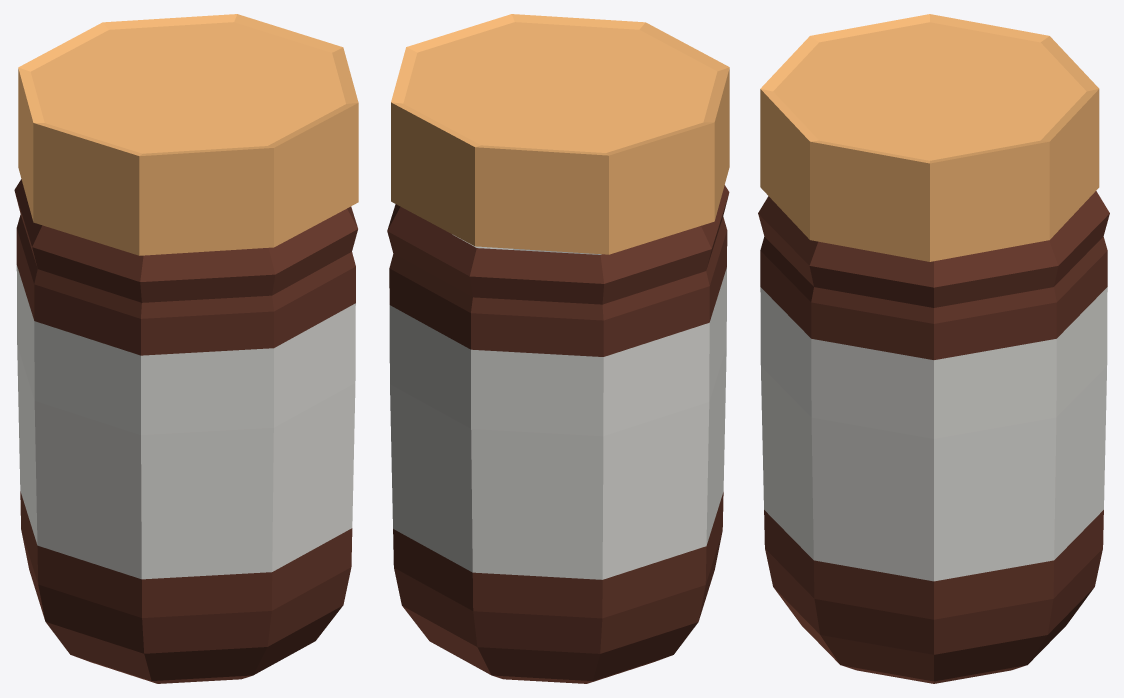
The model's file is nutella.fbx.
3 renders of one model, left to right at view 1: azimuth 30°, elevation 25°; view 2: azimuth 150°, elevation 25°; view 3: azimuth 270°, elevation 25°, orthographic.
Parts seen in each view (by area): view 1: Cylinder.003; view 2: Cylinder.003; view 3: Cylinder.003.
Part boxes in pixels (bbox=[...]): Cylinder.003: bbox=[14, 14, 358, 683]; Cylinder.003: bbox=[387, 14, 729, 683]; Cylinder.003: bbox=[758, 14, 1109, 683].
Bounding box in the file's own units: 313 × 536 × 312.
